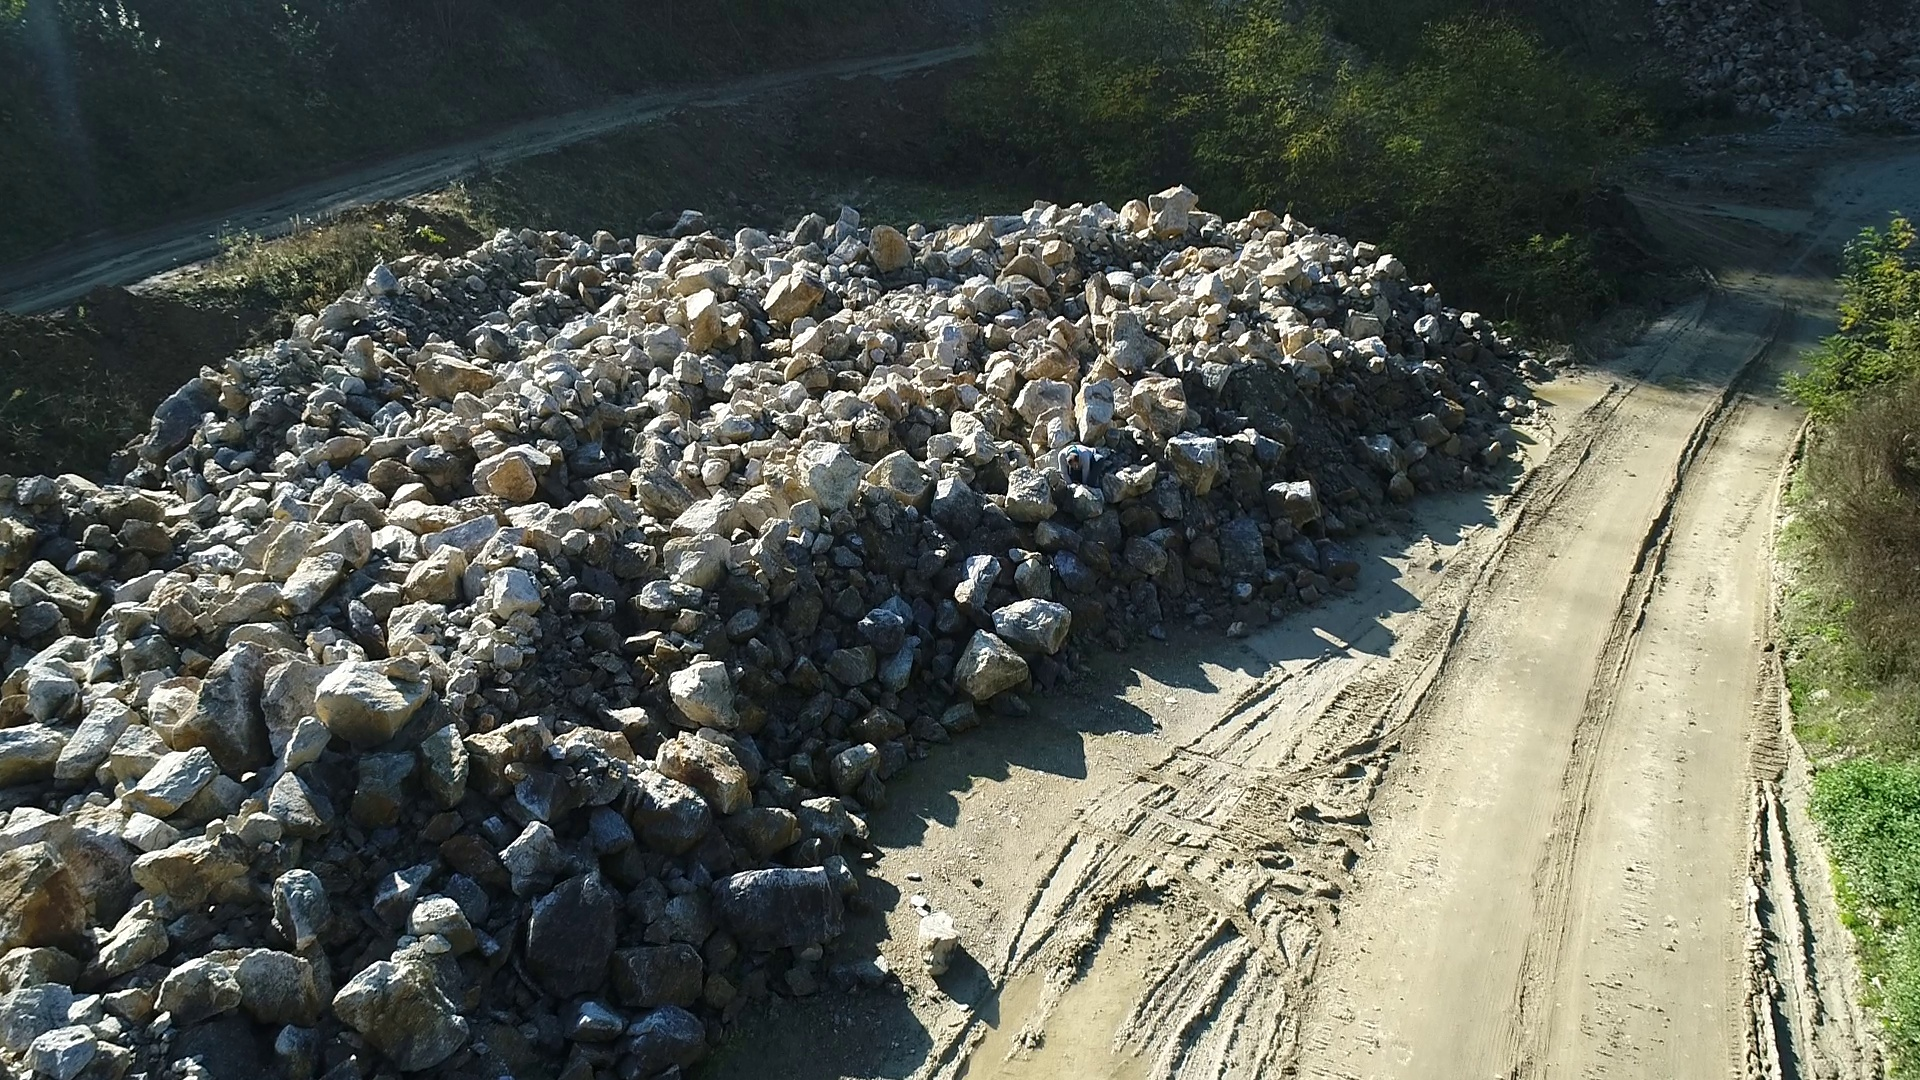person: (1058, 445, 1096, 486)
